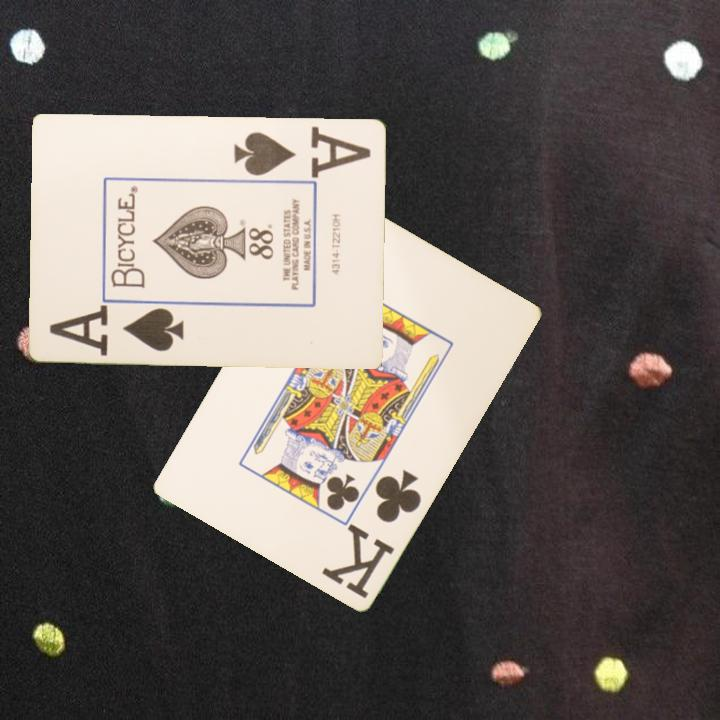As: (47, 302, 188, 358), (231, 128, 361, 178)
Kc: (320, 465, 425, 601)
